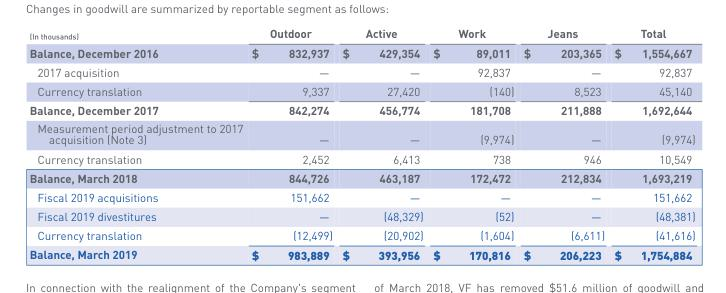table: (28, 28, 694, 261)
table column: (28, 28, 246, 261), (336, 28, 427, 261), (427, 28, 518, 261), (246, 28, 336, 261), (518, 28, 608, 261), (608, 28, 694, 261)
table column header: (28, 28, 694, 43)
table row: (28, 119, 694, 149), (28, 43, 694, 63), (28, 149, 694, 169), (28, 63, 694, 82), (28, 82, 694, 101), (28, 169, 694, 188), (28, 188, 694, 207), (28, 207, 694, 226), (28, 226, 694, 245), (28, 101, 694, 119), (28, 245, 694, 261), (28, 28, 694, 43)
